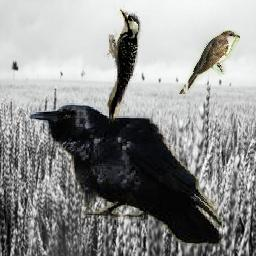Crow: (27, 104, 225, 247)
Cuckoo: (178, 30, 240, 94)
Woodpecker: (101, 6, 143, 129)
